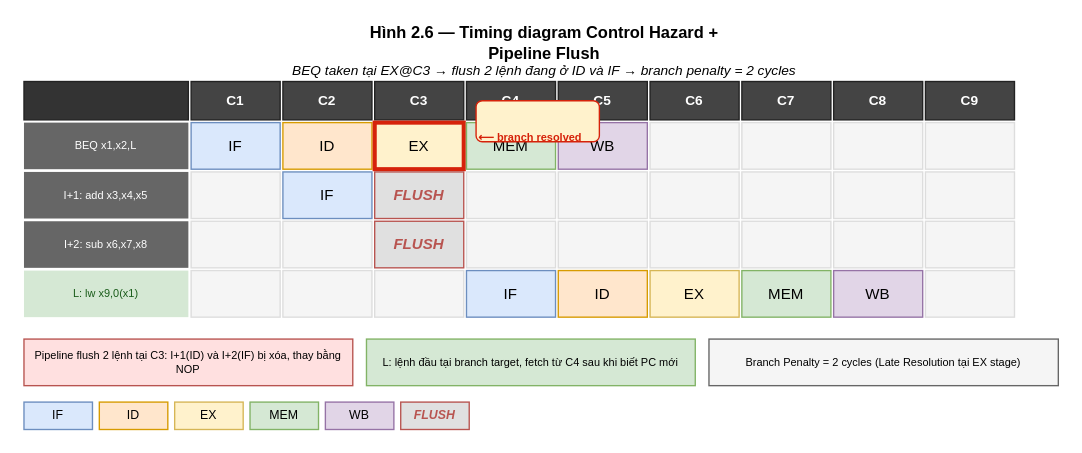
Image size: 1082x453. Some labels were removed from this diagram. Here are the shapes that lost their labels. From the top down, the box of each, then its label:
(23, 80, 188, 120): Lệnh / Cycle
(475, 99, 599, 142): Branch taken! PC → L
